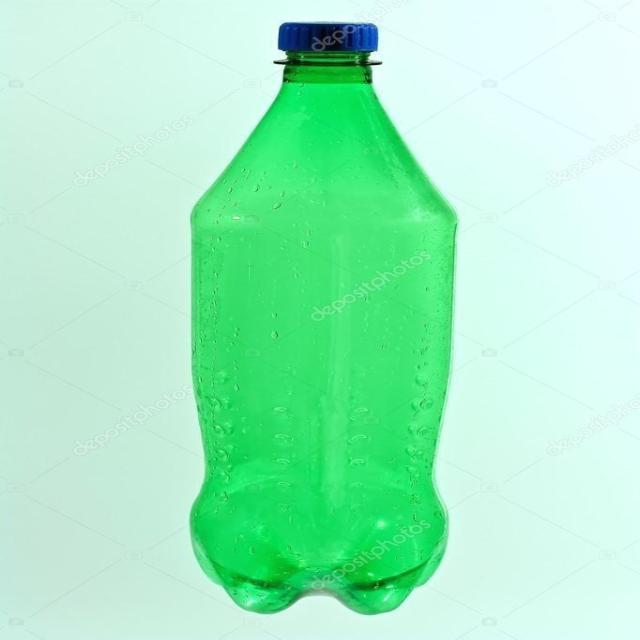plastic bottle: (170, 14, 461, 625)
